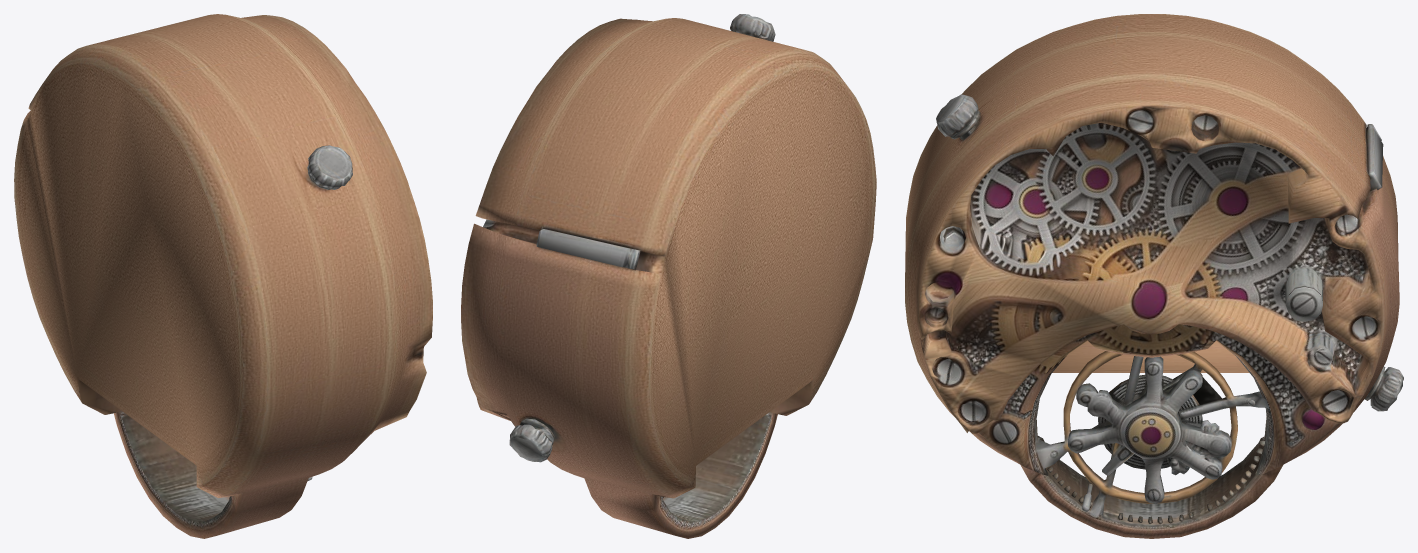
File: tourbillon.glb
The picture shows the model from 3 angles, left to right: view 1: azimuth 30°, elevation 25°; view 2: azimuth 150°, elevation 25°; view 3: azimuth 270°, elevation 25°; orthographic projection. The views are drawn at different scales.
Visible parts, largest first — view 1: tripo_node_1cfcc743-7a93-42f6-983e-c58225796631; view 2: tripo_node_1cfcc743-7a93-42f6-983e-c58225796631; view 3: tripo_node_1cfcc743-7a93-42f6-983e-c58225796631.
Boxes of the visible parts, x1,y1,x2,y2 form: tripo_node_1cfcc743-7a93-42f6-983e-c58225796631: (14,14,432,538); tripo_node_1cfcc743-7a93-42f6-983e-c58225796631: (461,14,876,538); tripo_node_1cfcc743-7a93-42f6-983e-c58225796631: (905,14,1403,538).
Bounding box in the file's own units: 0.4286 × 1 × 0.9413.
1 material, 1 textured.
